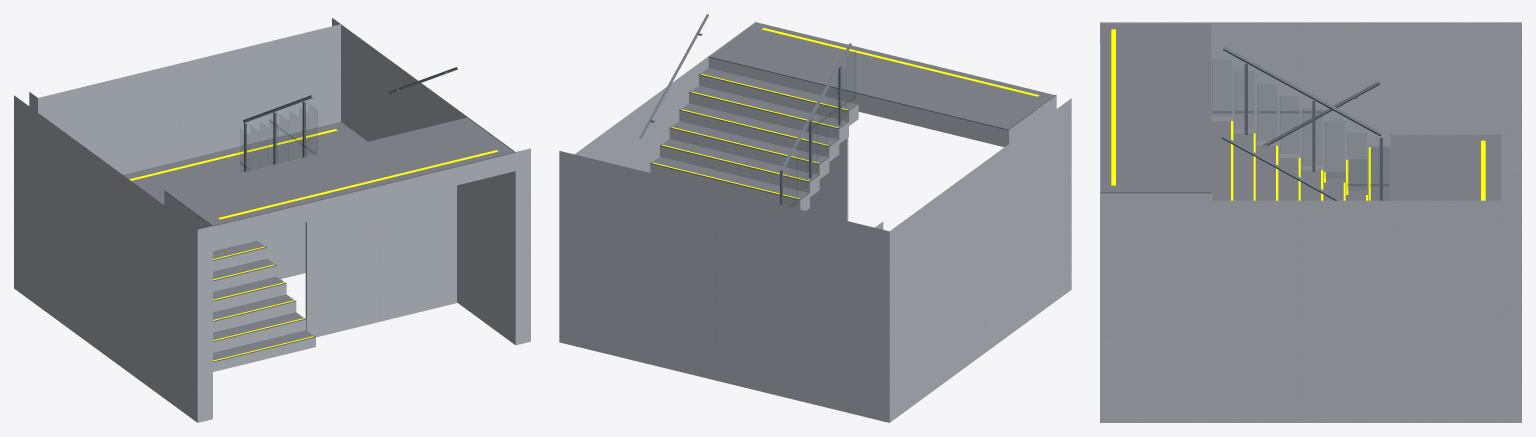
3 renders of one model, left to right at view 1: azimuth 30°, elevation 25°; view 2: azimuth 150°, elevation 25°; view 3: azimuth 270°, elevation 25°, orthographic. The views are drawn at different scales.
Parts seen in each view (by area): view 1: Core_Walls, Understair_Screen, Top_Landing_Slate, Top_Landing, Mid_Landing_Slate, Flight1_Cast, Treads_Slate, Mid_Landing, Court_Line_Landing, Nosing_Emergency, Guard_Posts, Guard_Glass_Centre; view 2: Core_Walls, Top_Landing_Slate, Flight2_Modules, Treads_Slate, Top_Landing, Understair_Screen, Nosing_Emergency, Court_Line_Landing, Guard_Posts, Guard_Glass_Centre, Guard_Cap_Rail, Handrail_Wall; view 3: Core_Walls, Top_Landing_Slate, Treads_Slate, Mid_Landing_Slate, Nosing_Emergency, Court_Line_Landing, Handrail_Wall, Top_Landing, Guard_Cap_Rail, Guard_Posts, Guard_Glass_Centre.
Boxes of the visible parts, left/top/right/bottom form: Core_Walls: left=14, top=18, right=530, bottom=422; Understair_Screen: left=305, top=185, right=456, bottom=337; Top_Landing_Slate: left=164, top=117, right=515, bottom=226; Top_Landing: left=164, top=153, right=515, bottom=244; Mid_Landing_Slate: left=123, top=122, right=367, bottom=204; Flight1_Cast: left=213, top=234, right=315, bottom=371; Treads_Slate: left=213, top=240, right=315, bottom=362; Mid_Landing: left=257, top=222, right=305, bottom=279; Court_Line_Landing: left=129, top=129, right=498, bottom=219; Nosing_Emergency: left=213, top=246, right=313, bottom=361; Guard_Posts: left=244, top=102, right=305, bottom=171; Guard_Glass_Centre: left=240, top=110, right=317, bottom=169; Core_Walls: left=559, top=21, right=1071, bottom=422; Top_Landing_Slate: left=708, top=22, right=1056, bottom=130; Flight2_Modules: left=650, top=75, right=858, bottom=210; Treads_Slate: left=650, top=68, right=858, bottom=200; Top_Landing: left=708, top=57, right=1056, bottom=147; Understair_Screen: left=806, top=138, right=848, bottom=220; Nosing_Emergency: left=652, top=74, right=847, bottom=198; Court_Line_Landing: left=761, top=28, right=1039, bottom=96; Guard_Posts: left=780, top=65, right=841, bottom=205; Guard_Glass_Centre: left=787, top=50, right=855, bottom=206; Guard_Cap_Rail: left=782, top=43, right=851, bottom=168; Handrail_Wall: left=639, top=14, right=708, bottom=138; Core_Walls: left=1100, top=22, right=1521, bottom=422; Top_Landing_Slate: left=1100, top=23, right=1211, bottom=193; Treads_Slate: left=1211, top=121, right=1390, bottom=200; Mid_Landing_Slate: left=1390, top=134, right=1501, bottom=200; Nosing_Emergency: left=1231, top=121, right=1370, bottom=200; Court_Line_Landing: left=1111, top=29, right=1485, bottom=200; Handrail_Wall: left=1221, top=81, right=1379, bottom=200; Top_Landing: left=1100, top=44, right=1210, bottom=200; Guard_Cap_Rail: left=1223, top=47, right=1382, bottom=136; Guard_Posts: left=1244, top=64, right=1382, bottom=200; Guard_Glass_Centre: left=1212, top=59, right=1389, bottom=199.
Size of what is drawn, in the model's own units: 5.5 by 3.9 by 5.25.
Materials: 5 (3 with a texture image).
